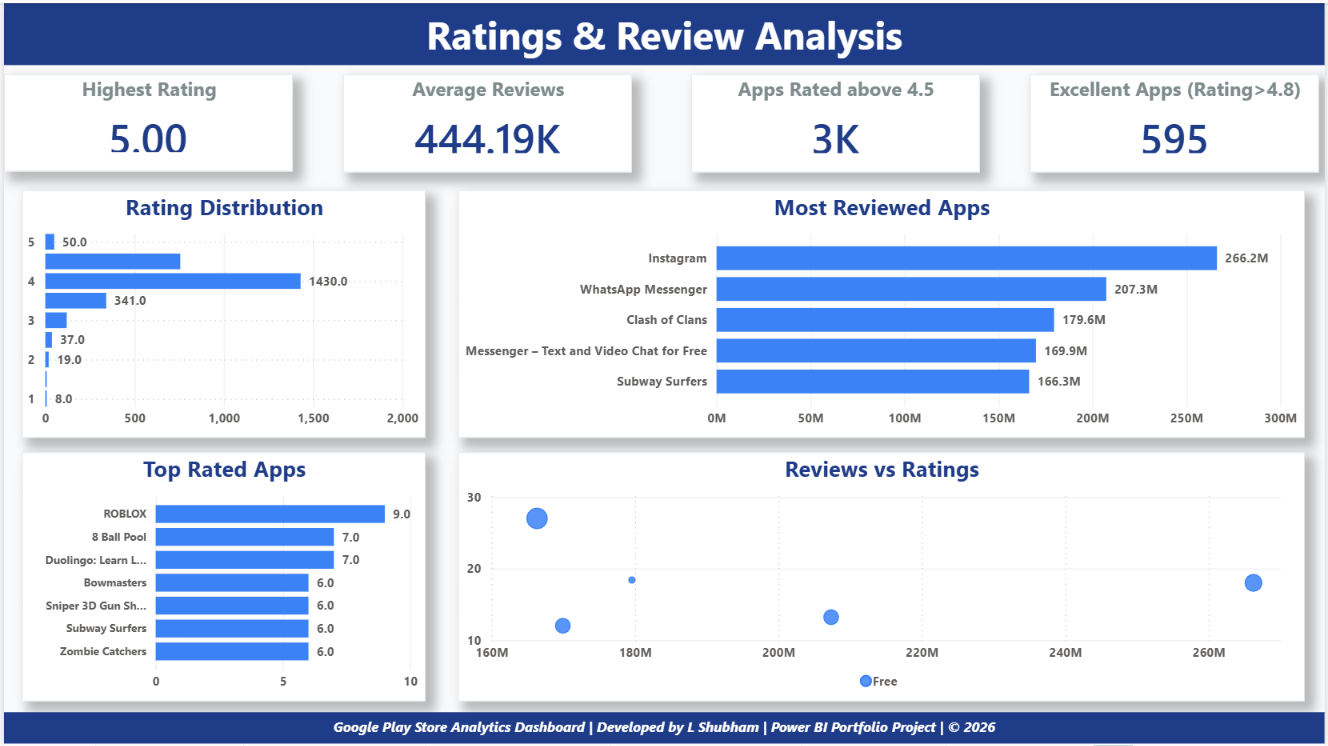

What the dashboard file says about the page in this screenshot:
{"tool":"powerbi","page":{"name":"Ratings & Review Analysis","canvas":[1280,720],"ordinal":1},"visuals":[{"type":"cardVisual","title":"Highest Rating","fields":{"Data":["Max(Apps.RatingClean)"]},"box":[0,68.6,279.9,94.7],"z":0},{"type":"cardVisual","title":"Average Reviews","fields":{"Data":["Measures .Average Reviews"]},"box":[328.3,68.7,280,95],"z":1000},{"type":"cardVisual","title":"Excellent Apps (Rating>4.8)","fields":{"Data":["Measures .Excellent Apps (Rating> 4.8)"]},"box":[994.6,68.7,280,95],"z":2000},{"type":"cardVisual","title":"Apps Rated above 4.5","fields":{"Data":["Measures .Apps Rated above 4.5"]},"box":[665.5,68.7,280,95],"z":3000},{"type":"clusteredBarChart","title":"Rating Distribution","fields":{"Category":["Apps.RatingClean (bins)"],"Y":["CountNonNull(Apps.App)"]},"box":[17.8,181.1,391.1,240.1],"z":4000},{"type":"clusteredBarChart","title":"Most Reviewed Apps","fields":{"Category":["Apps.App"],"Y":["Sum(Apps.Reviews)"]},"box":[440.5,181.1,820.6,240.1],"z":5000},{"type":"scatterChart","title":"Reviews vs Ratings","fields":{"X":["Sum(Apps.Reviews)"],"Y":["Sum(Apps.RatingClean)"],"Category":["Apps.App"],"Size":["Sum(Apps.Installs)"],"Series":["Apps.Type"]},"box":[440.5,435,820.6,241.5],"z":6000},{"type":"clusteredBarChart","title":"Top Rated Apps","fields":{"Category":["Apps.App"],"Y":["Measures .Apps Rated above 4.5"]},"box":[17.8,435,391.1,241.5],"z":7000},{"type":"textbox","box":[0,0,1280.3,60],"z":8000},{"type":"textbox","box":[0,687.5,1280.3,30],"z":8001}]}

Visuals, with their boxes in screenshot pixels (x1, y1, x2, y2), scaled from the page's 1280x720 canvas onto the 1328x746 screenshot:
"Highest Rating" cardVisual: [0,71,290,169]
"Average Reviews" cardVisual: [341,71,631,170]
"Excellent Apps (Rating>4.8)" cardVisual: [1032,71,1322,170]
"Apps Rated above 4.5" cardVisual: [690,71,981,170]
"Rating Distribution" clusteredBarChart: [18,188,424,436]
"Most Reviewed Apps" clusteredBarChart: [457,188,1308,436]
"Reviews vs Ratings" scatterChart: [457,451,1308,701]
"Top Rated Apps" clusteredBarChart: [18,451,424,701]
textbox: [0,0,1327,62]
textbox: [0,712,1327,743]
